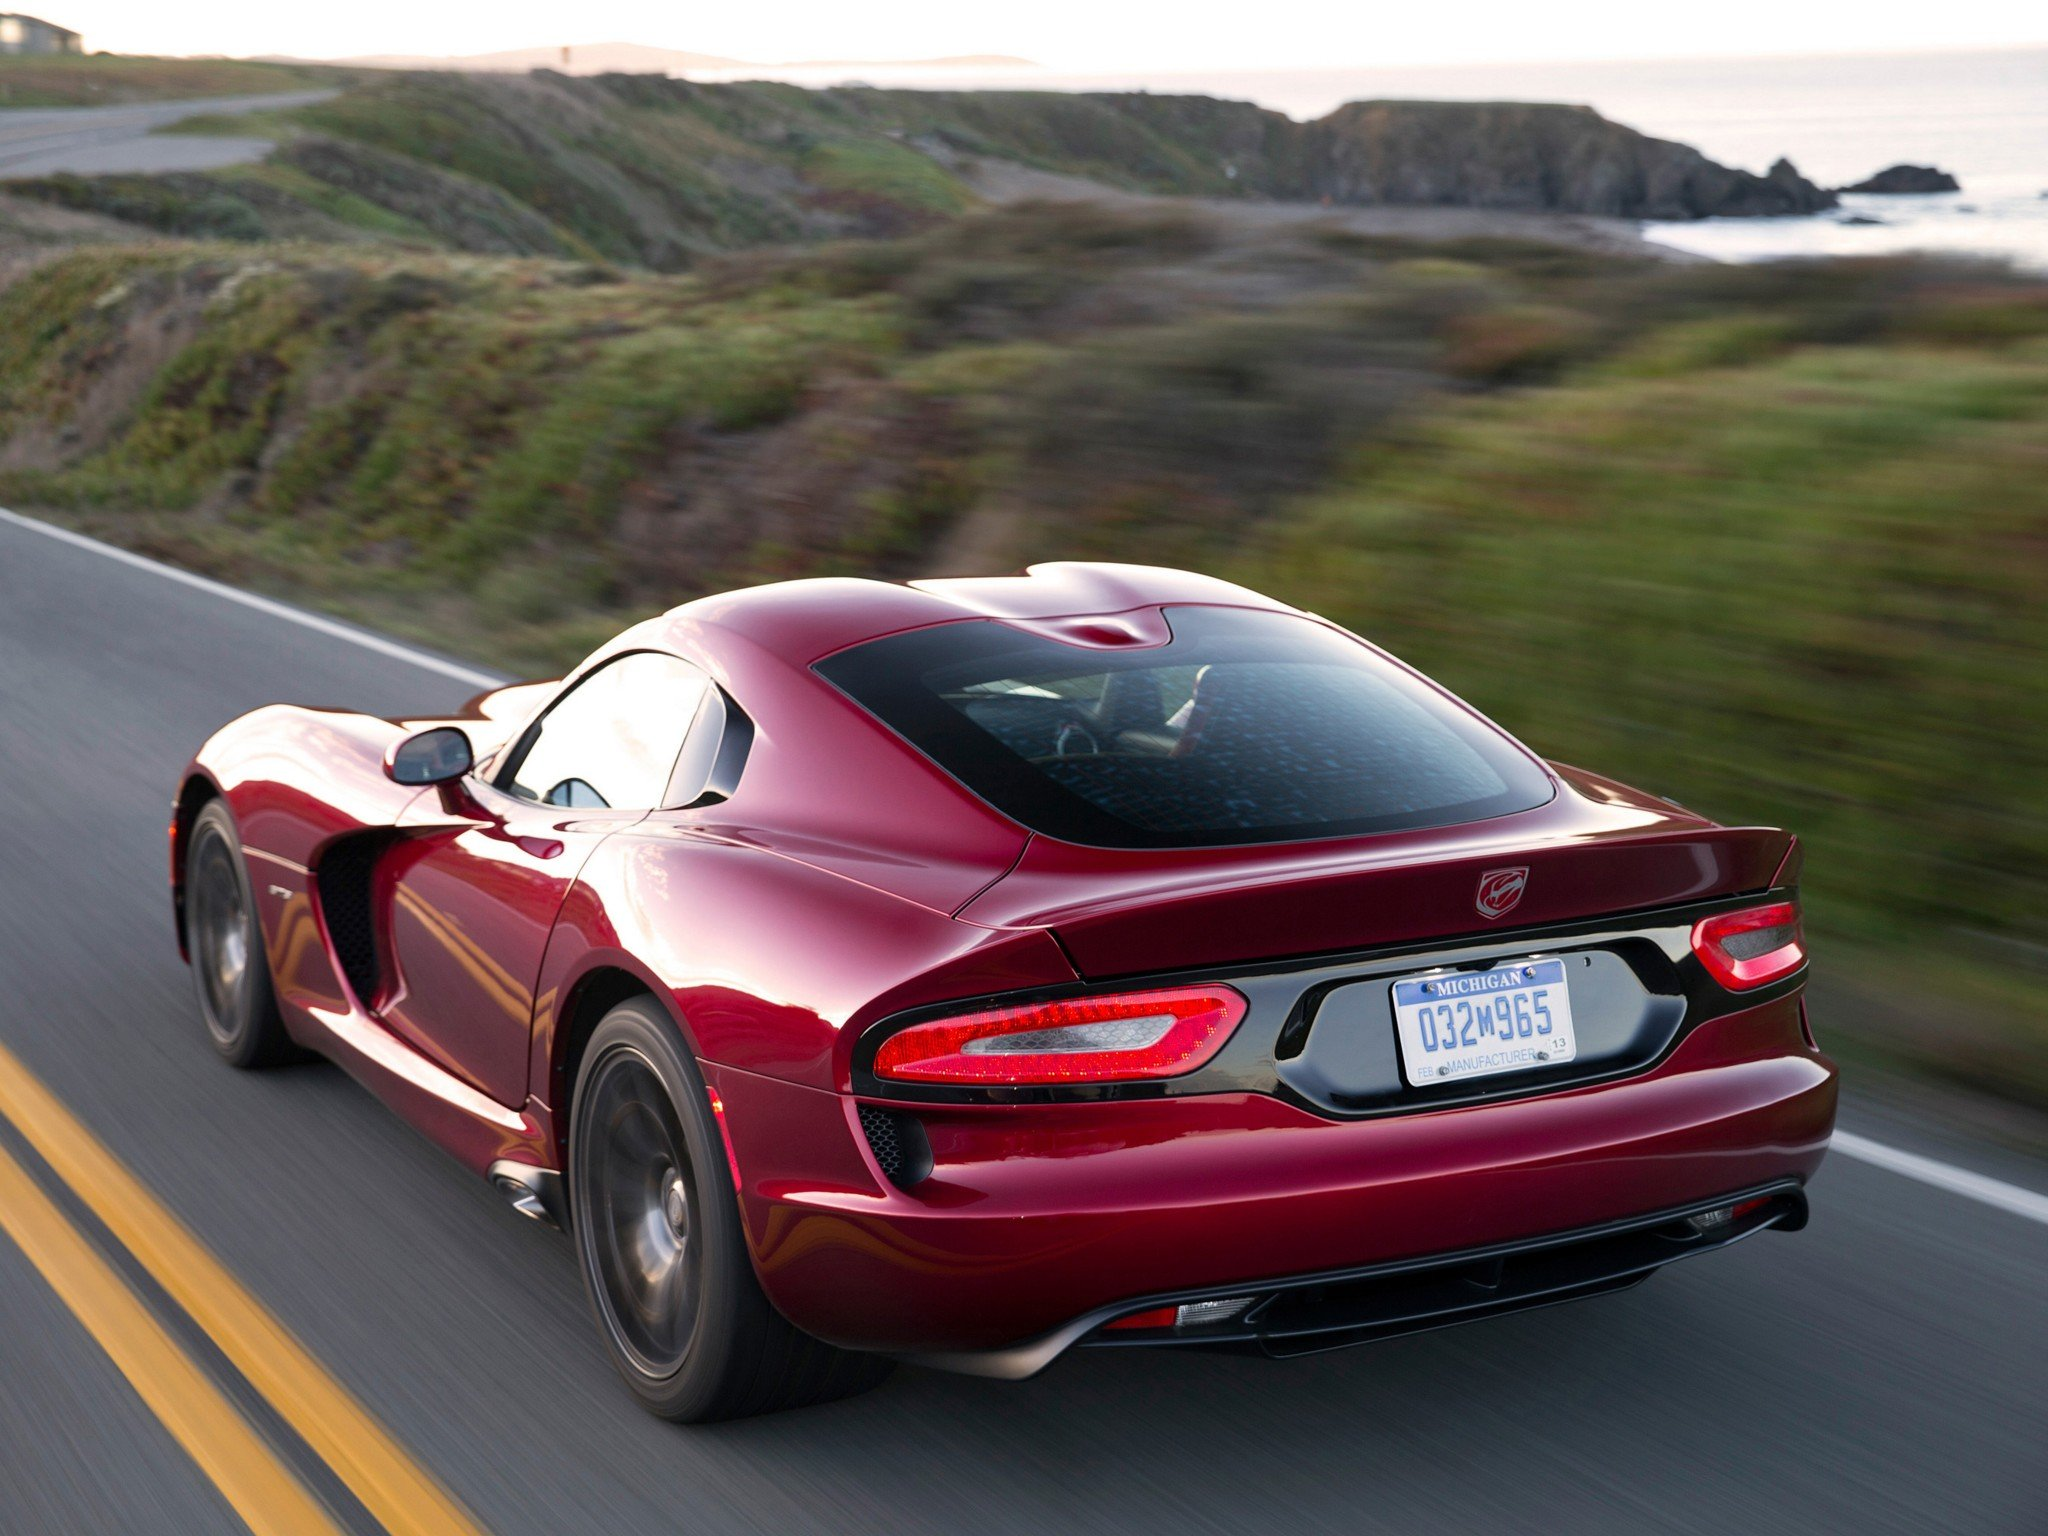headlight: (864, 939, 1295, 1100), (1675, 895, 1822, 987)
wheel: (534, 966, 816, 1433), (169, 766, 302, 1087)
